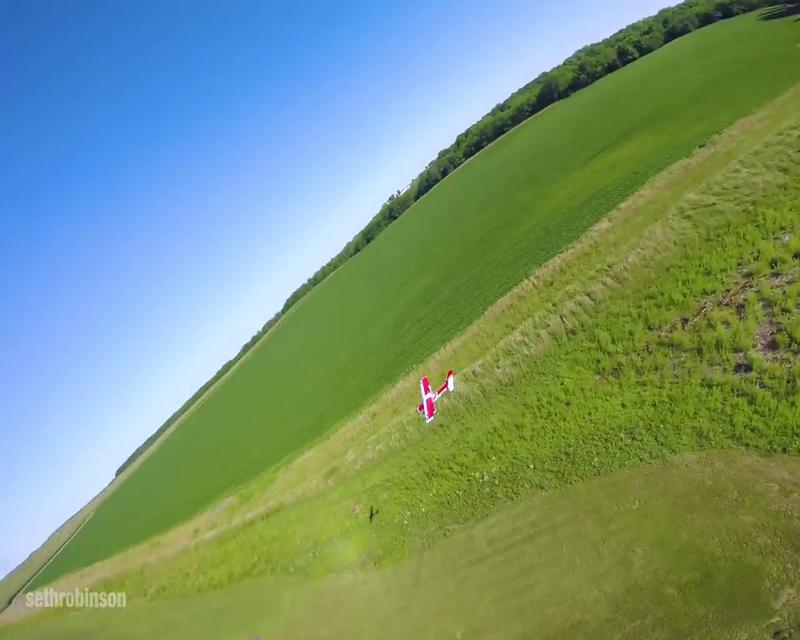UAV: (414, 369, 456, 423)
